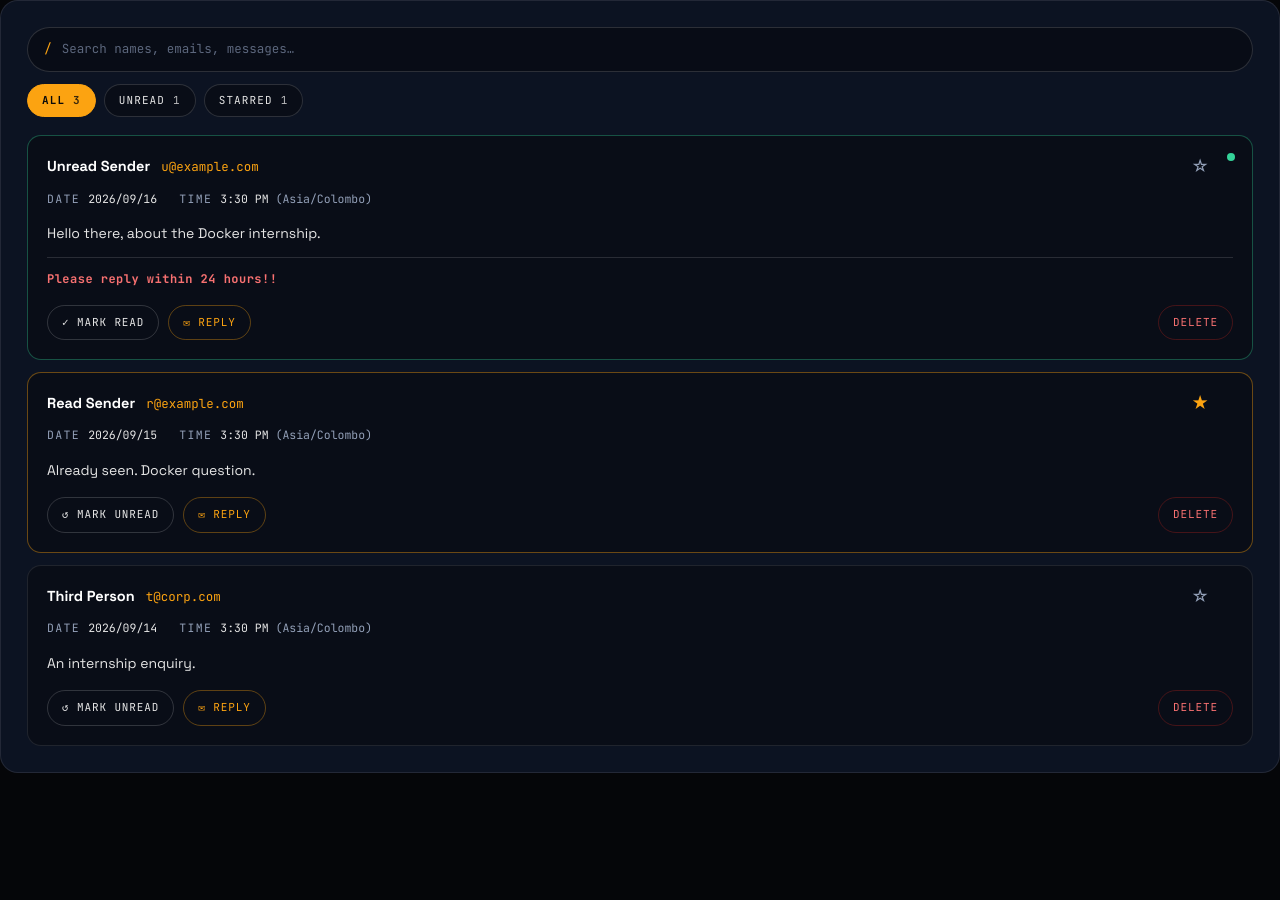
Test case: DELETE asks first (PF-115) › surfaces a failed delete
The width and height of the screenshot is (1280, 900).
Click the button with aria-label "Delete message from Read Sender".
click(1196, 515)  # box [1158,497,1233,533]
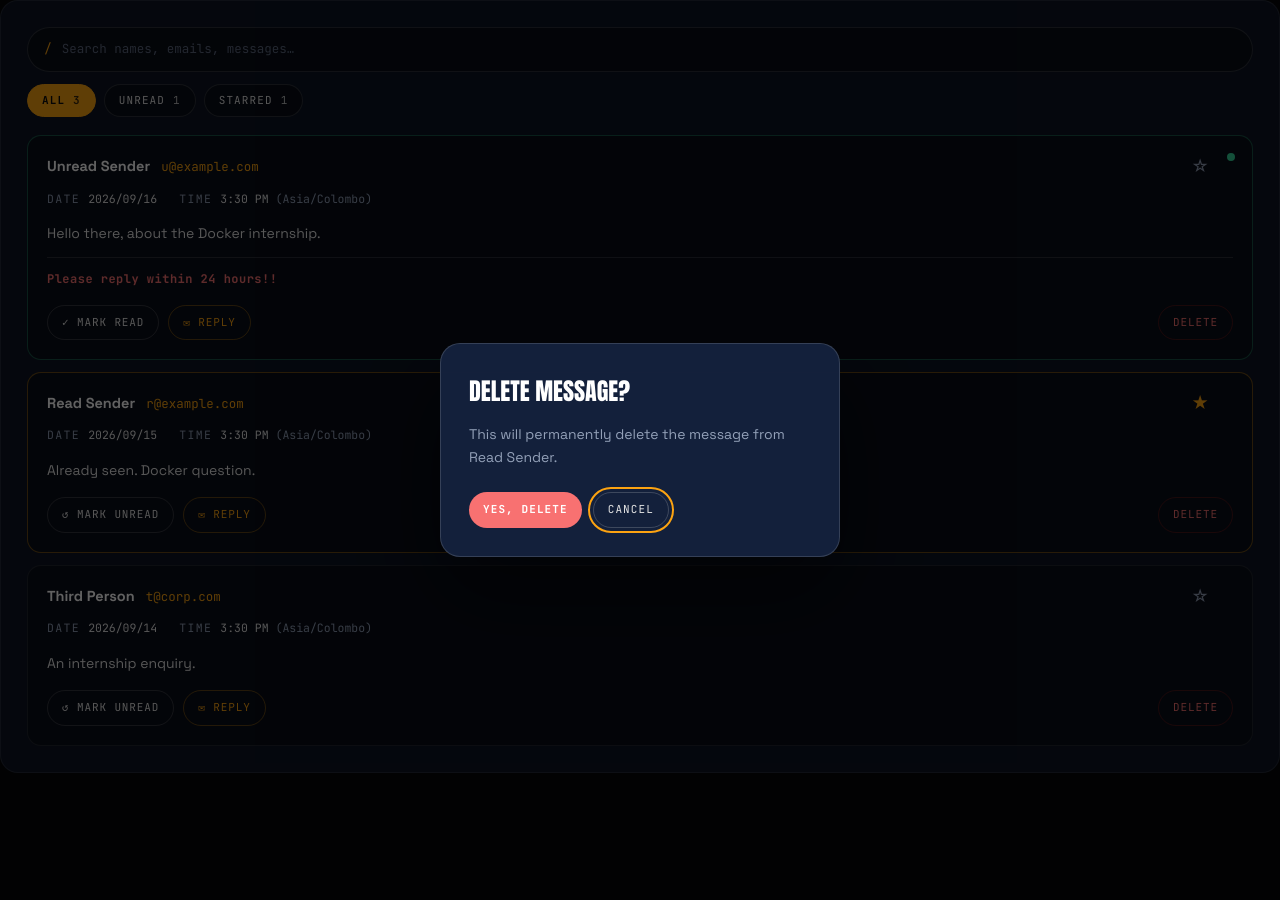
Click the button "YES, DELETE".
click(525, 510)  # box [469,492,582,528]
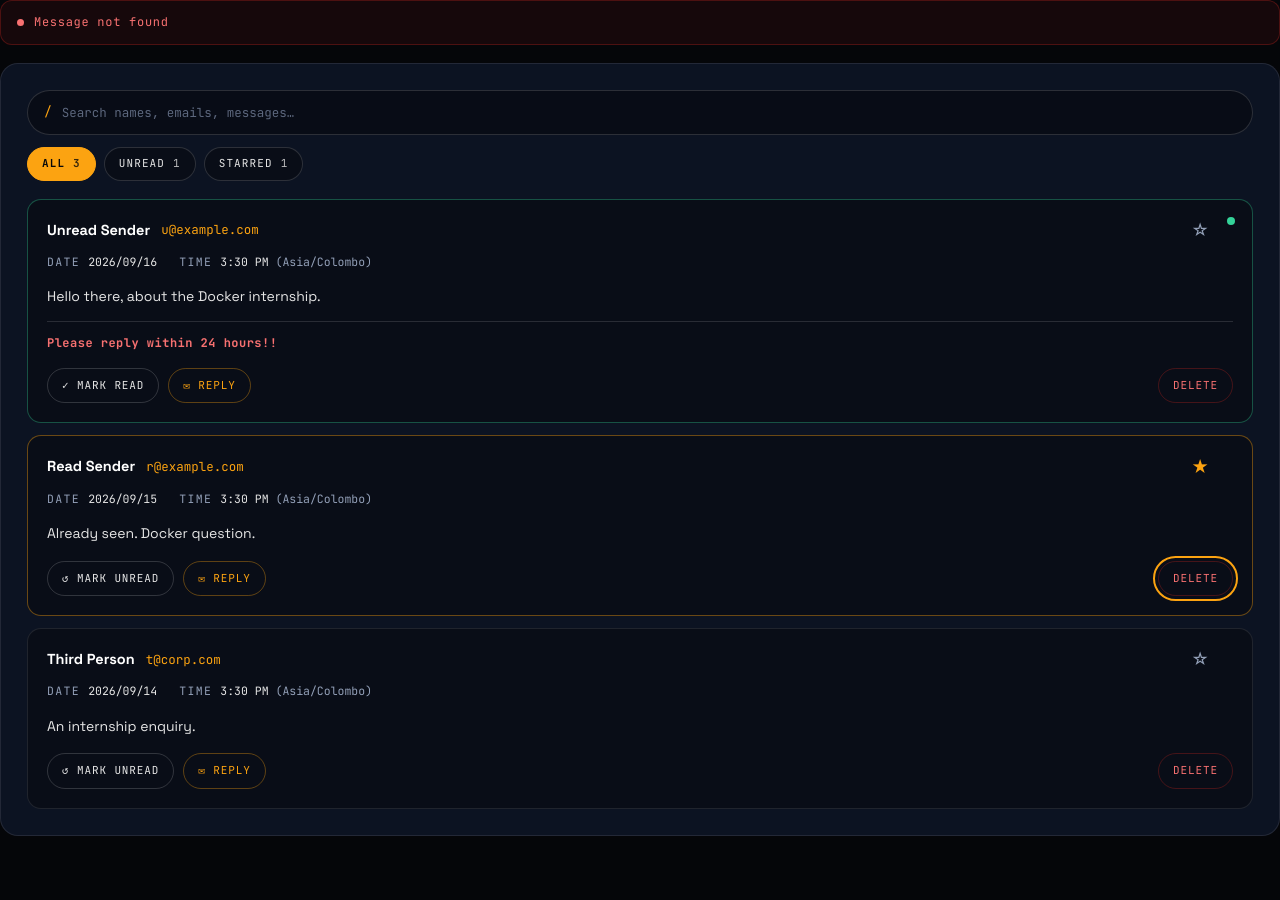
Check: the message reads "Message not found", box [34,14,169,30]
